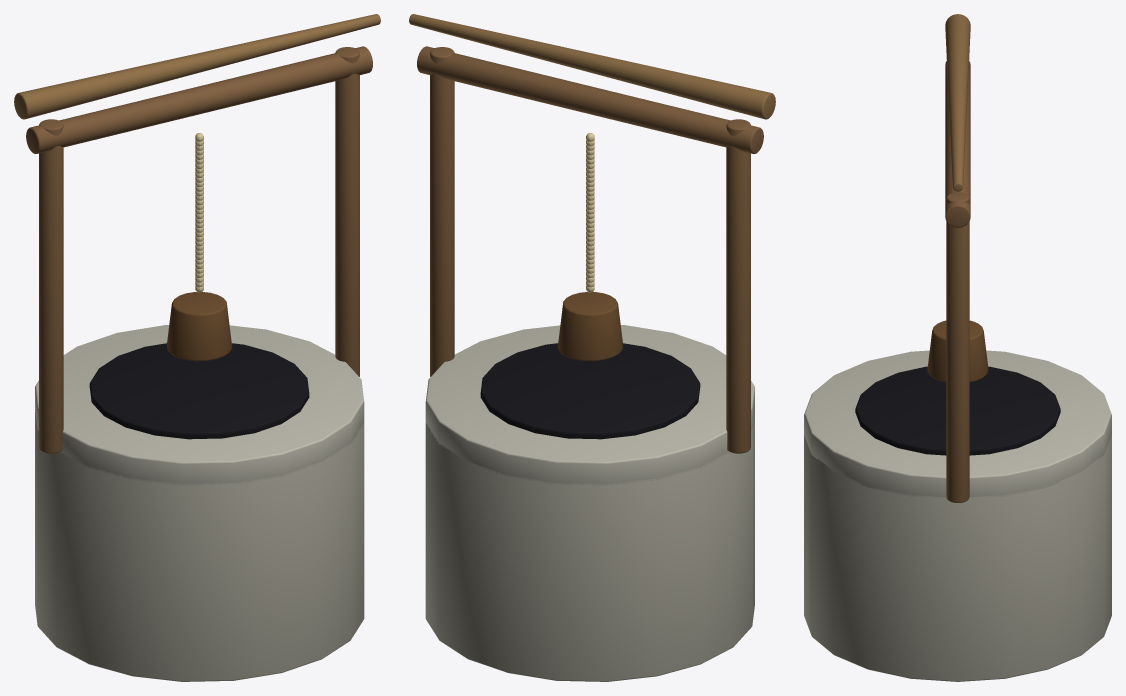
File: well.glb
3 views of the same model, side by side, from view 1: azimuth 30°, elevation 25°; view 2: azimuth 150°, elevation 25°; view 3: azimuth 270°, elevation 25° (orthographic). The views are drawn at different scales.
Parts seen in each view (by area): view 1: well; view 2: well; view 3: well.
Boxes of the visible parts, <box> form: well: <box>14,14,380,681</box>; well: <box>409,14,775,681</box>; well: <box>804,14,1111,681</box>.
Size of the model in its own units: 1.5 by 2.25 by 1.2.
